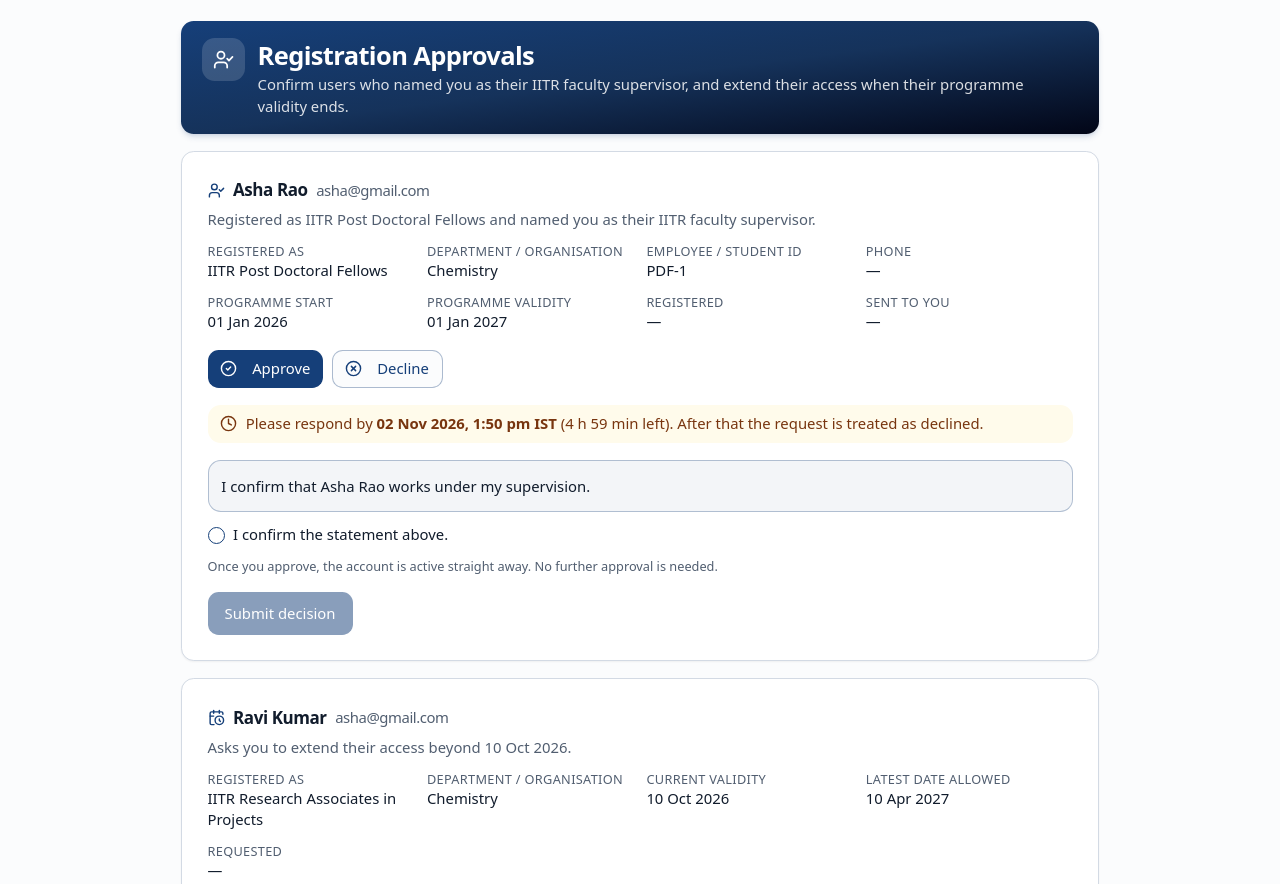
Test case: Registration approvals (faculty) › needs a reason to decline and shows the response deadline
The image size is (1280, 884).
Expected: the text "Please respond by" is shown, [246,413,377,433]
Click the button "Decline" below "01 Jan 2026".
click(387, 369)  # box [332,350,443,388]
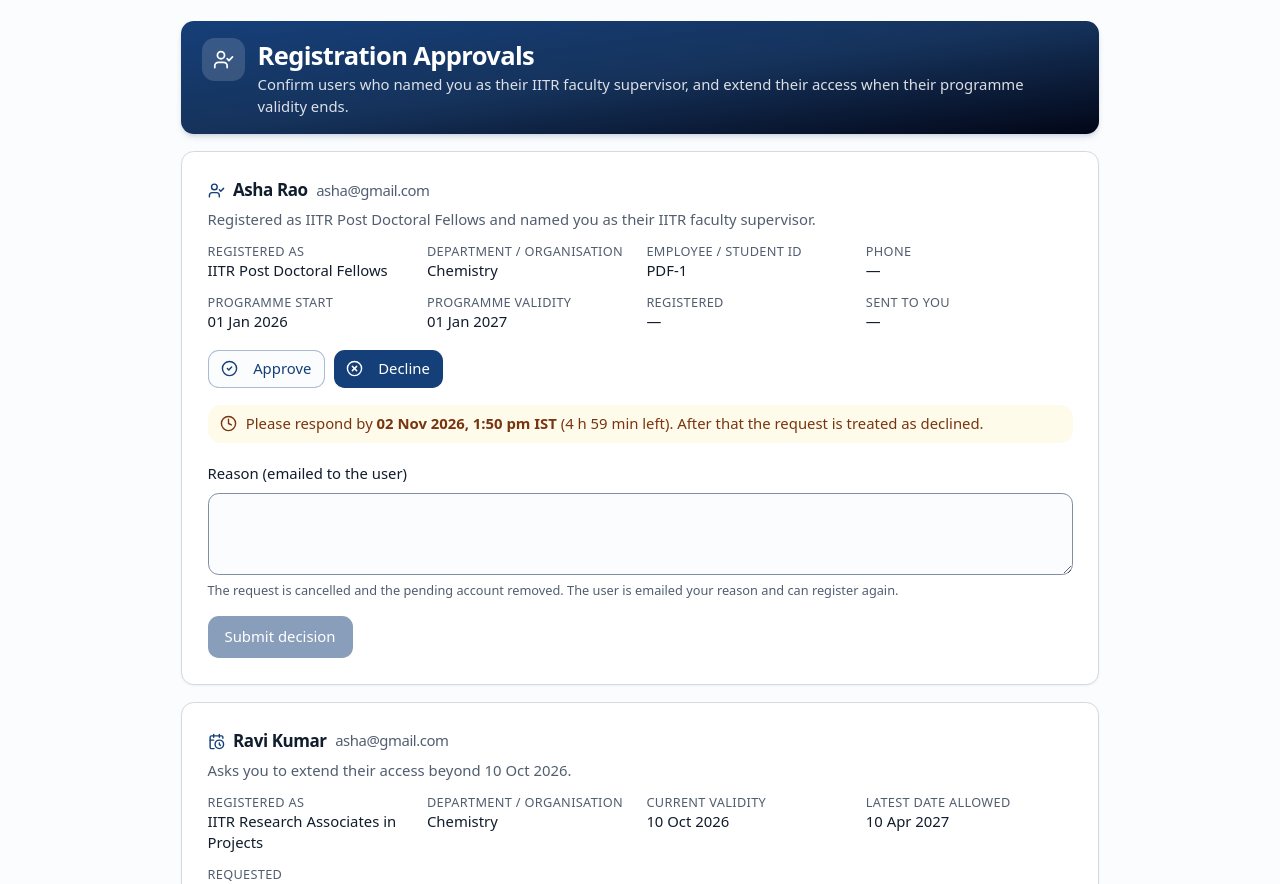
Expected: the button "Submit decision" is disabled, [208,616,352,658]
Type "Not in my group" into the text box labelled "Reason (emailed to the user)".
click(640, 534); type("Not in my group")  # box [208,493,1072,576]
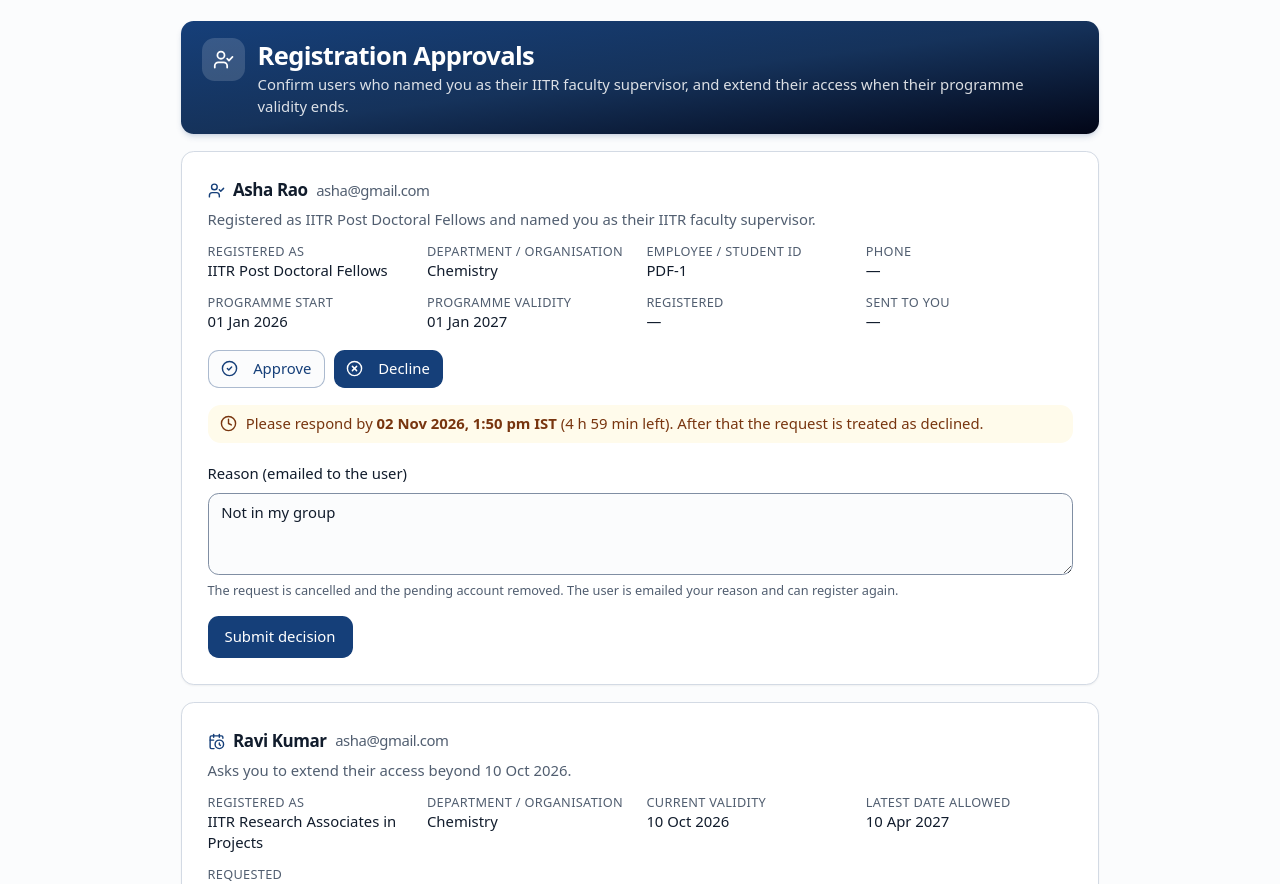
Expected: the button "Submit decision" is enabled, [208,616,352,658]
